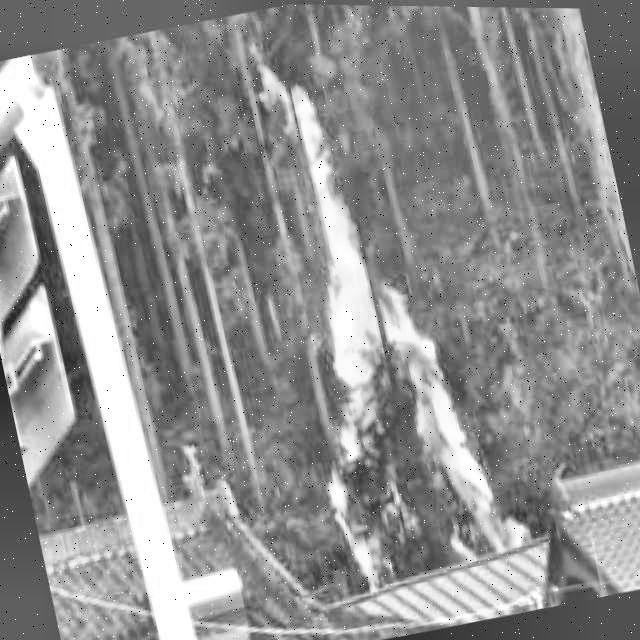Fire: (235, 37, 522, 597)
